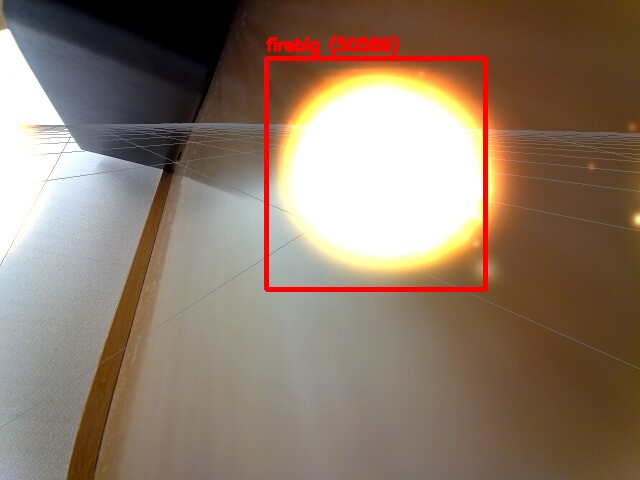firebig: (266, 58, 485, 289)
